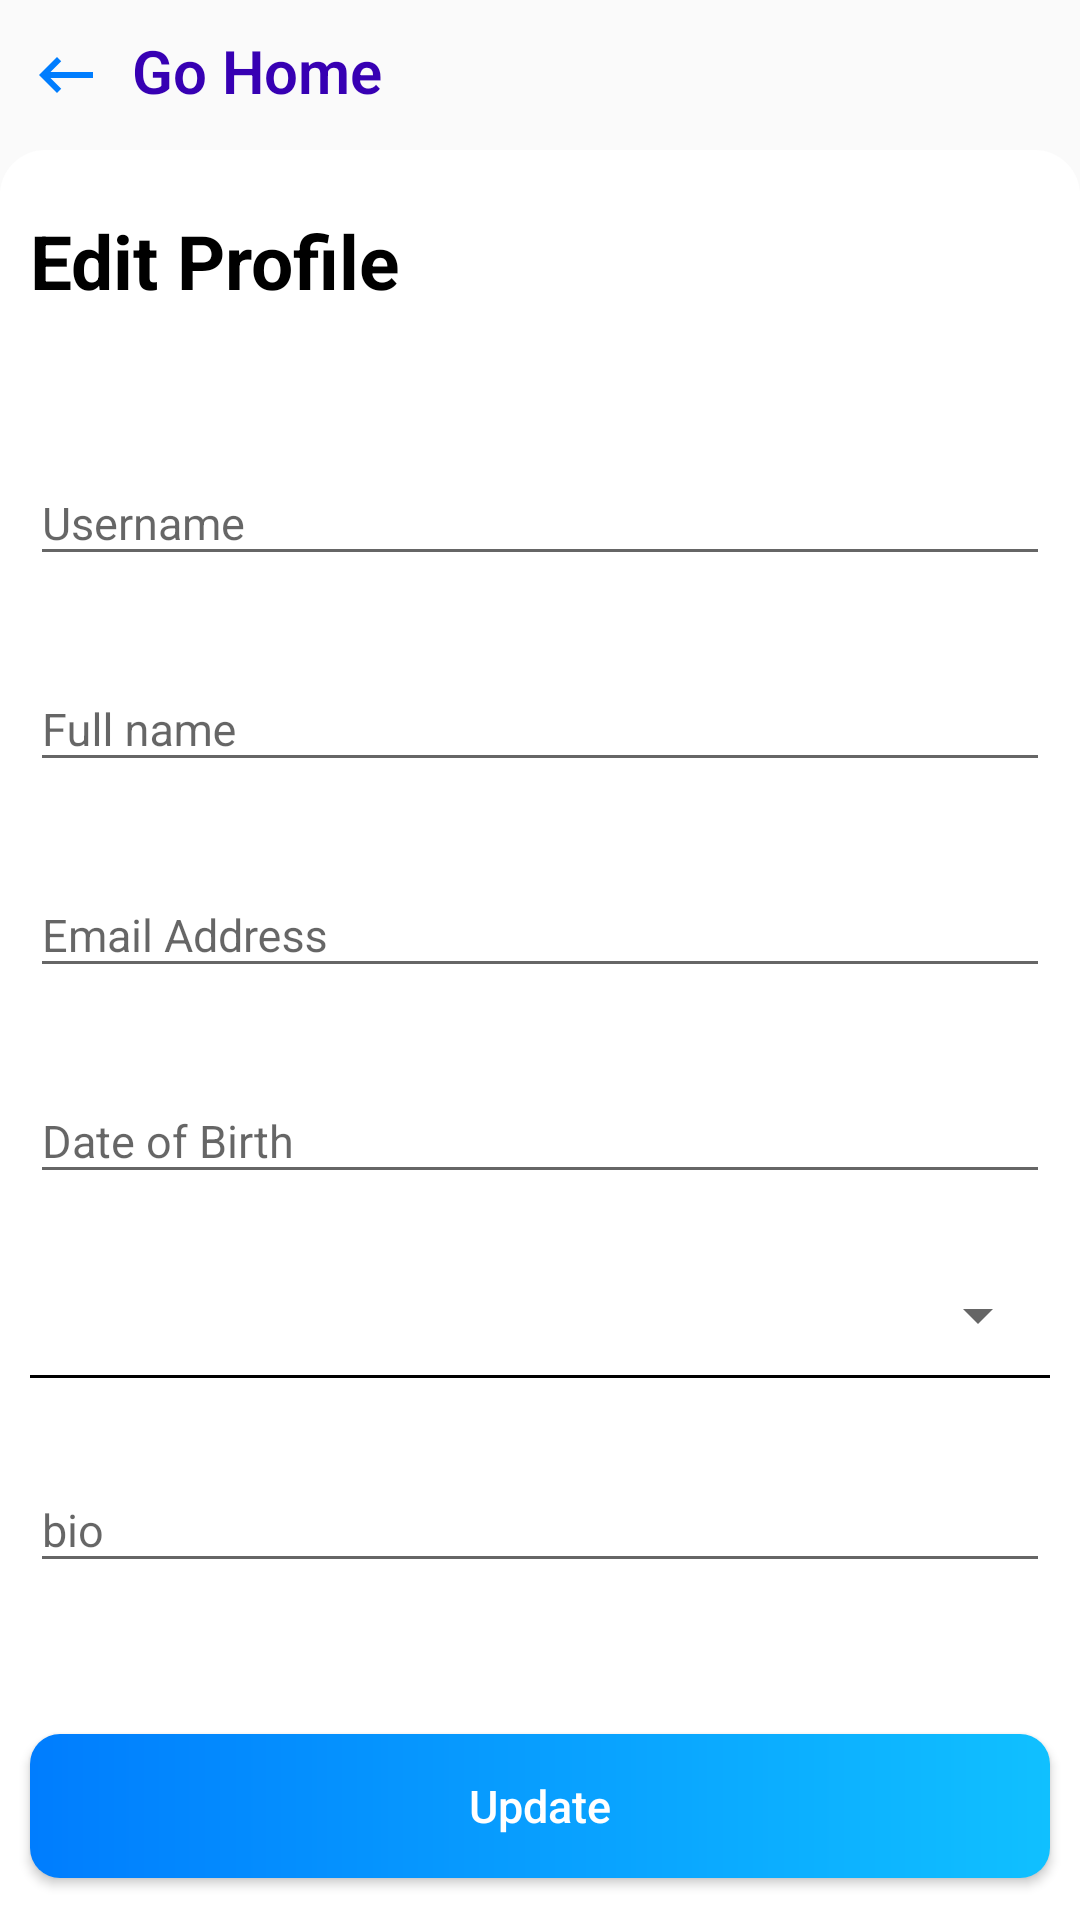

Icons on this 1080px x 1920px Android screen, each with its box as [x1, y1, x2, y2]:
keyboard backspace: [39, 57, 93, 93]
